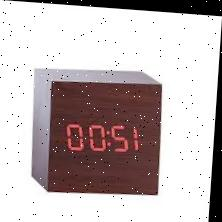cube: (30, 61, 166, 199)
